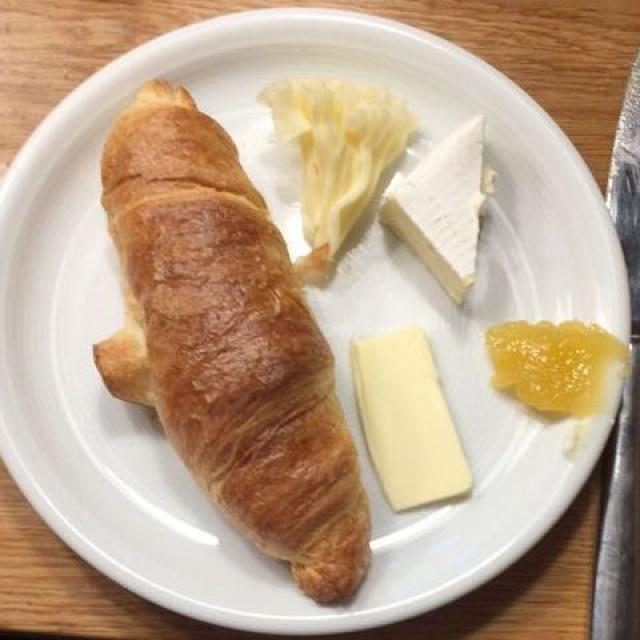butter: (363, 330, 470, 520)
croissant: (106, 86, 379, 590)
honey: (491, 322, 621, 414)
soft-cheese: (378, 115, 494, 301)
tete-de-moine: (278, 75, 422, 296)
